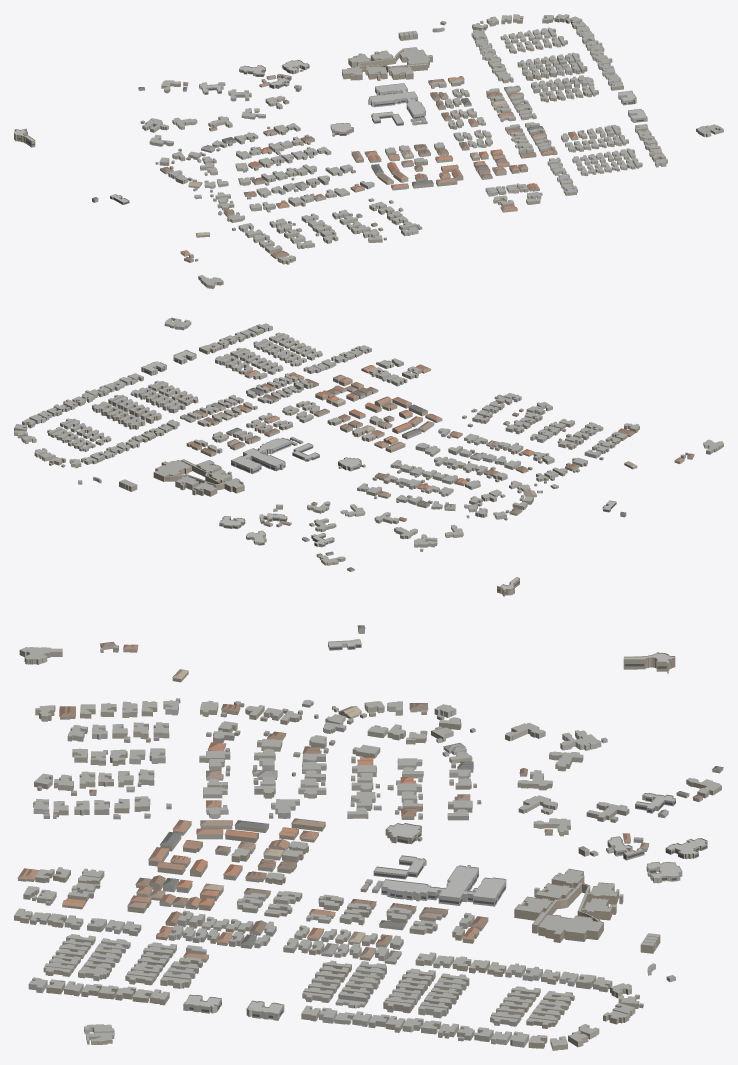
The model's file is buildings_r7_c0.glb.
3 views of the same model, one above another, from view 1: azimuth 30°, elevation 25°; view 2: azimuth 150°, elevation 25°; view 3: azimuth 270°, elevation 25° (orthographic). The views are drawn at different scales.
Visible parts, largest first — view 1: buildings_r7_c0; view 2: buildings_r7_c0; view 3: buildings_r7_c0.
Boxes of the visible parts, left/top/right/bottom form: buildings_r7_c0: left=14, top=14, right=723, bottom=288; buildings_r7_c0: left=14, top=317, right=723, bottom=596; buildings_r7_c0: left=14, top=625, right=723, bottom=1050.
Bounding box in the file's own units: 1122 × 35.71 × 798.
